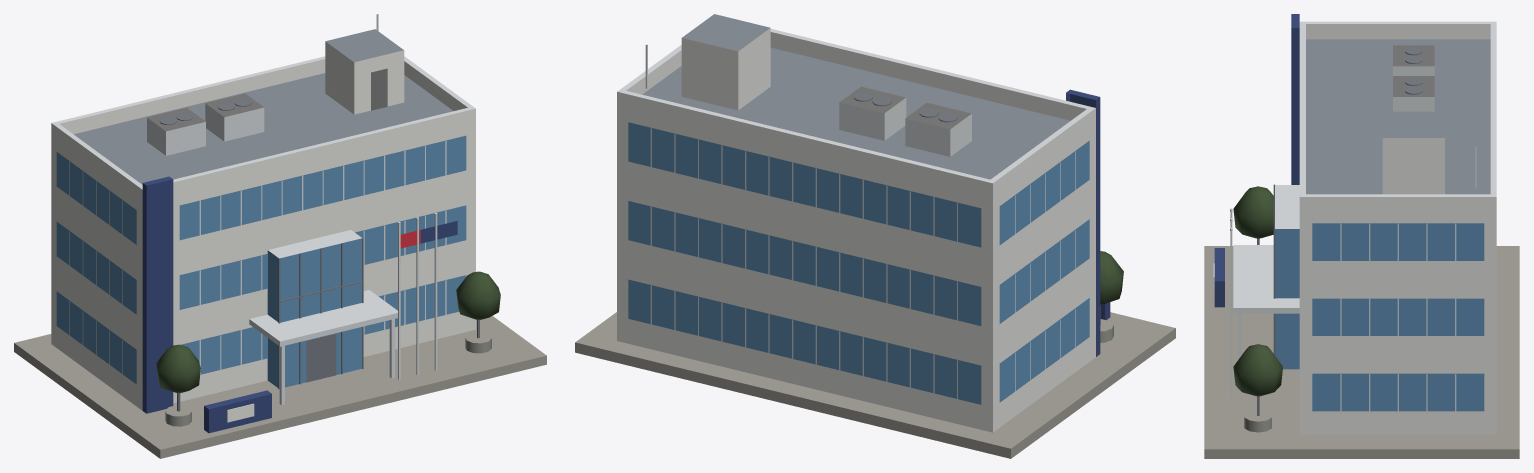
File: mashup-admin-top-prebuilt_close.fbx
3 views of the same model, side by side, from view 1: azimuth 30°, elevation 25°; view 2: azimuth 150°, elevation 25°; view 3: azimuth 270°, elevation 25° (orthographic). The views are drawn at different scales.
Parts seen in each view (by area): view 1: a1056/0/mashup-admin-top-prebuilt_close; view 2: a1056/0/mashup-admin-top-prebuilt_close; view 3: a1056/0/mashup-admin-top-prebuilt_close.
Boxes of the visible parts, <box> form: a1056/0/mashup-admin-top-prebuilt_close: <box>14,14,546,458</box>; a1056/0/mashup-admin-top-prebuilt_close: <box>575,14,1175,458</box>; a1056/0/mashup-admin-top-prebuilt_close: <box>1204,14,1519,458</box>.
Size of the model in its own units: 23.2 by 15.4 by 15.2.
